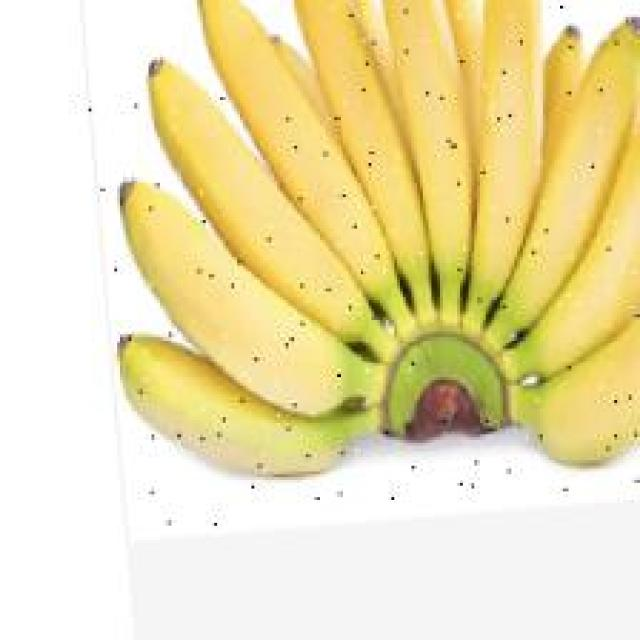banana: (88, 0, 640, 505)
